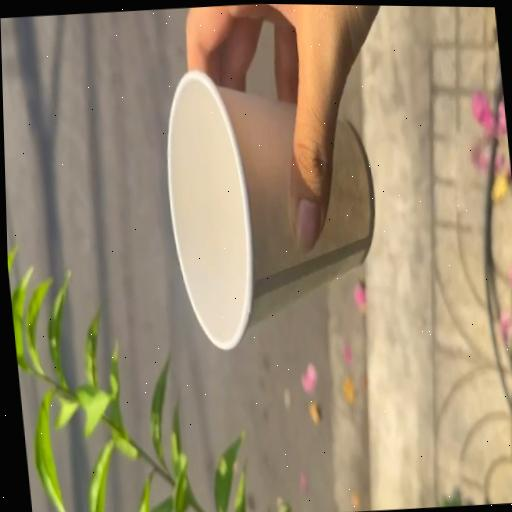Ly_giay: (168, 70, 374, 348)
